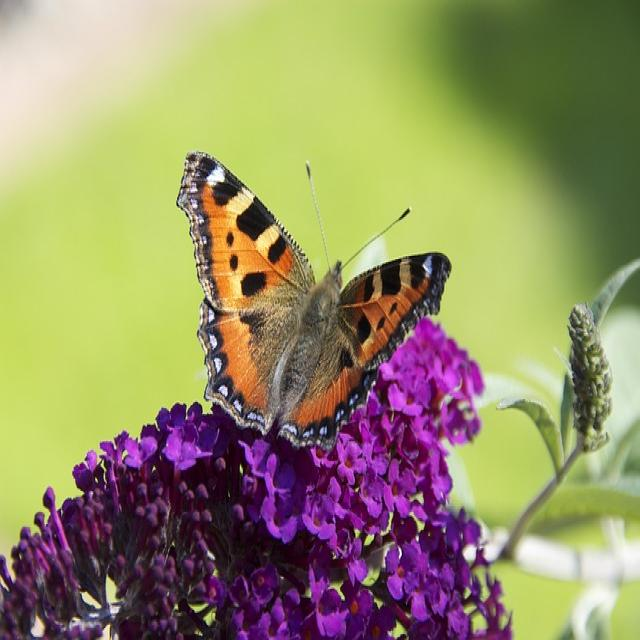butterfly: (178, 152, 450, 447)
